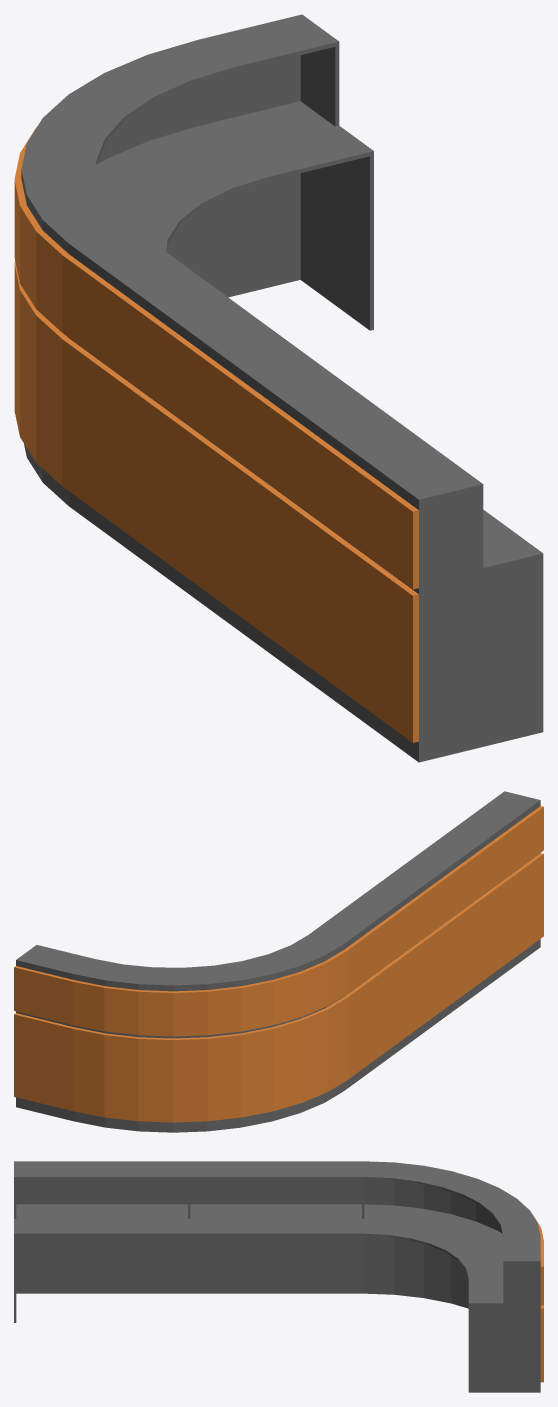
The model's file is reception_desk.dae.
The picture shows the model from 3 angles, top to bottom: view 1: azimuth 30°, elevation 25°; view 2: azimuth 150°, elevation 25°; view 3: azimuth 270°, elevation 25°; orthographic projection. The views are drawn at different scales.
Visible parts, largest first — view 1: Reception, Reception Board; view 2: Reception Board, Reception; view 3: Reception, Reception Board.
Boxes of the visible parts, left/top/right/bottom form: Reception: left=21, top=14, right=543, bottom=762; Reception Board: left=14, top=127, right=418, bottom=742; Reception Board: left=14, top=806, right=543, bottom=1122; Reception: left=16, top=791, right=540, bottom=1132; Reception: left=14, top=1161, right=540, bottom=1392; Reception Board: left=533, top=1215, right=543, bottom=1382.
Bounding box in the file's own units: 2.07 × 4.57 × 1.25.
